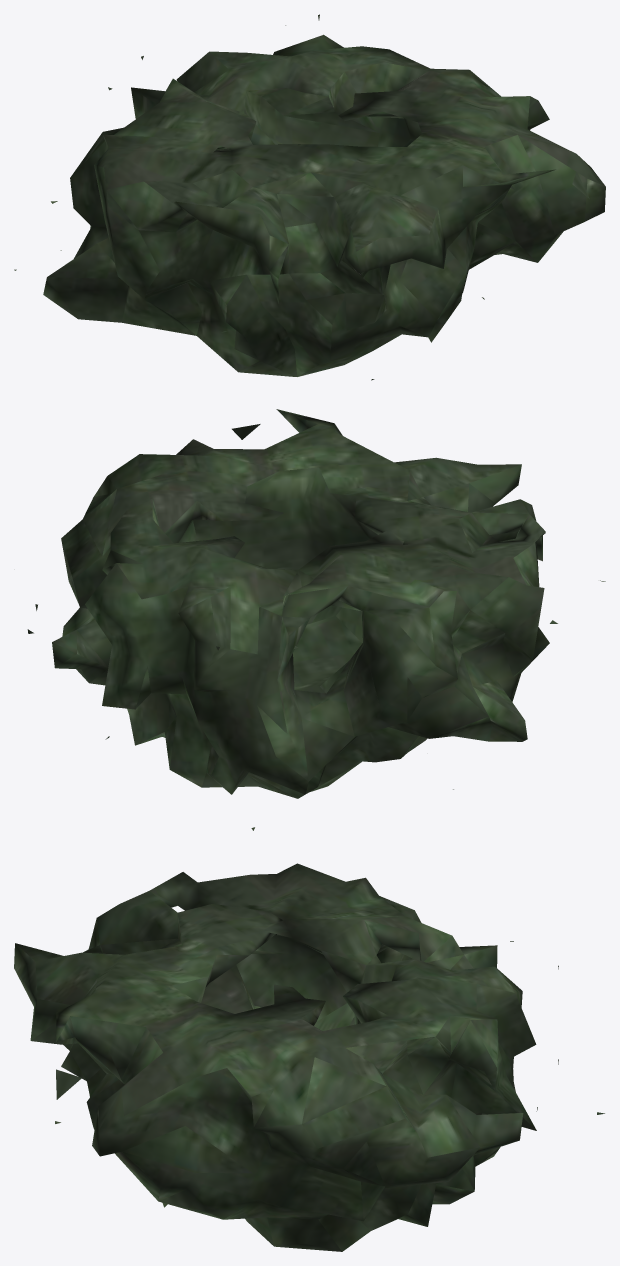
File: thicket.glb
3 renders of one model, top to bottom at view 1: azimuth 30°, elevation 25°; view 2: azimuth 150°, elevation 25°; view 3: azimuth 270°, elevation 25°, orthographic. The views are drawn at different scales.
Parts seen in each view (by area): view 1: THICKET; view 2: THICKET; view 3: THICKET.
Part boxes in pixels (bbox=[...]): THICKET: bbox=[14, 14, 605, 380]; THICKET: bbox=[27, 409, 605, 798]; THICKET: bbox=[14, 827, 604, 1251].
Bounding box in the file's own units: 2.54 × 1.15 × 2.44.
Materials: 1 (1 with a texture image).
